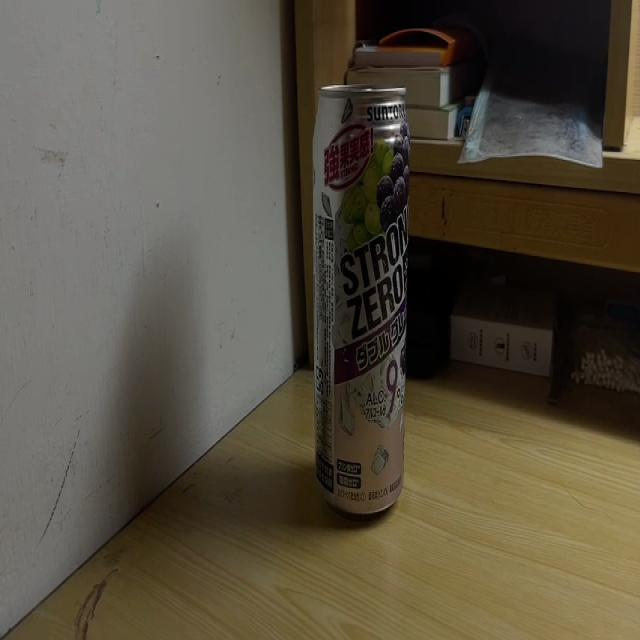Liquor: (312, 82, 408, 516)
